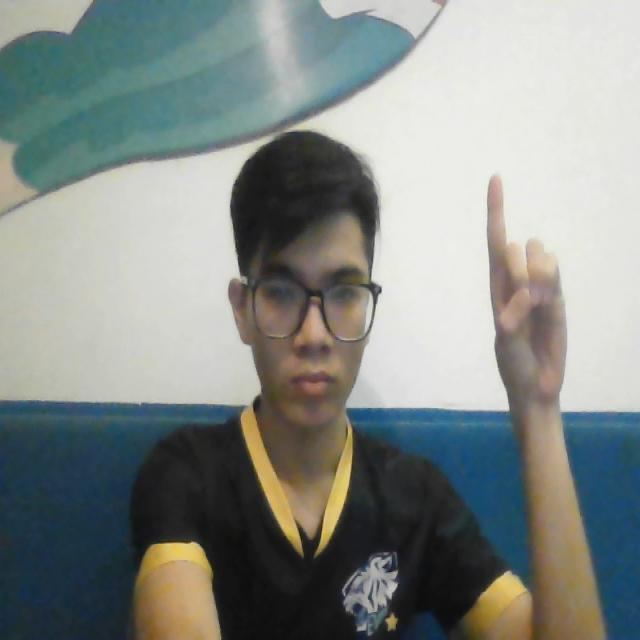D: (469, 156, 577, 410)
